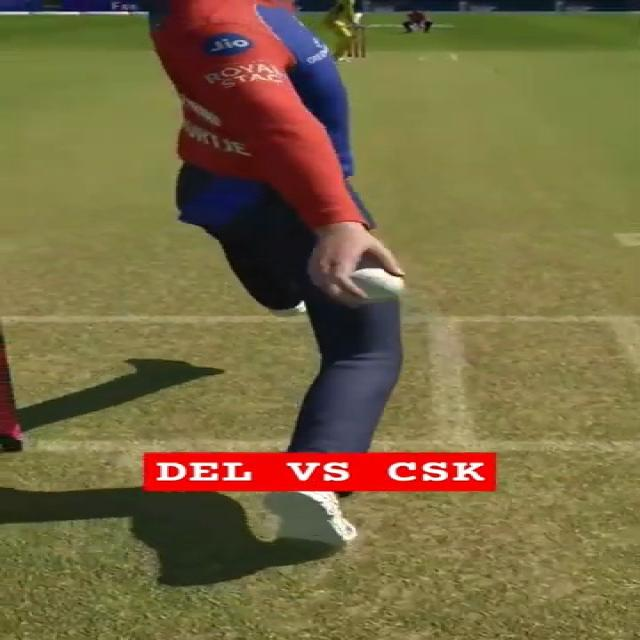ball: (350, 267, 405, 305)
